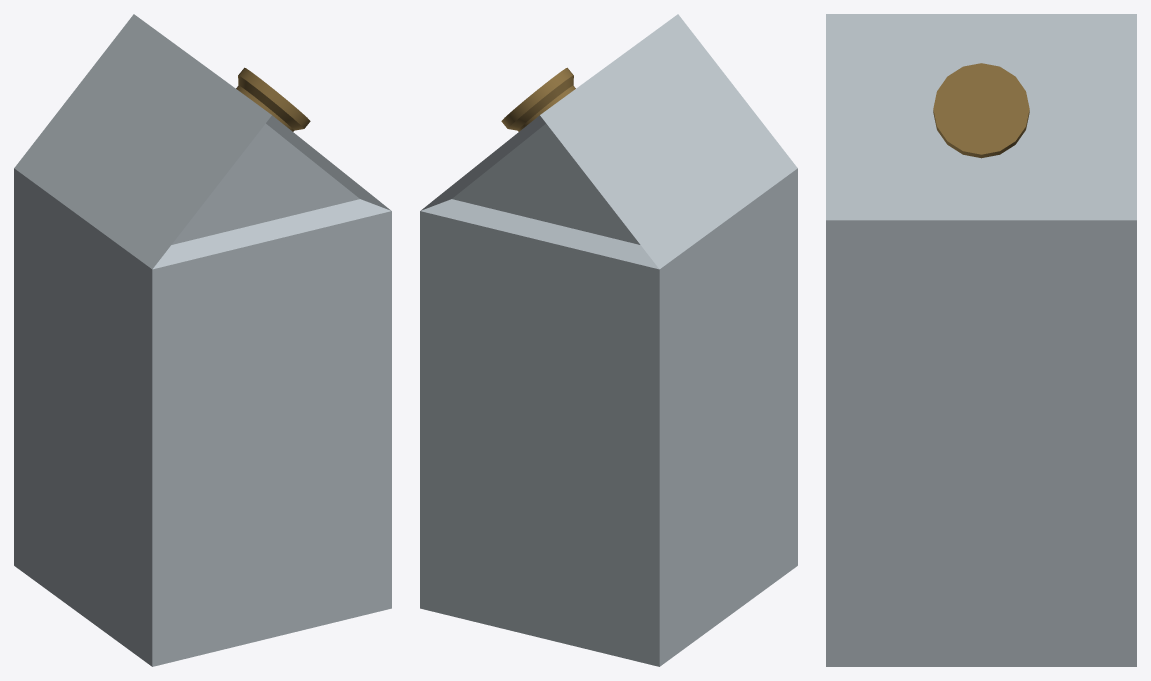
Rendered from Tetra_02.fbx.
3 renders of one model, left to right at view 1: azimuth 30°, elevation 25°; view 2: azimuth 150°, elevation 25°; view 3: azimuth 270°, elevation 25°, orthographic. The views are drawn at different scales.
Visible parts, largest first — view 1: Tetra_02; view 2: Tetra_02; view 3: Tetra_02.
Part boxes in pixels (x1=…): Tetra_02: x1=14, y1=14, x2=391, y2=666; Tetra_02: x1=420, y1=14, x2=797, y2=666; Tetra_02: x1=826, y1=14, x2=1136, y2=666.
Bounding box in the file's own units: 24.09 × 50.24 × 24.09.
